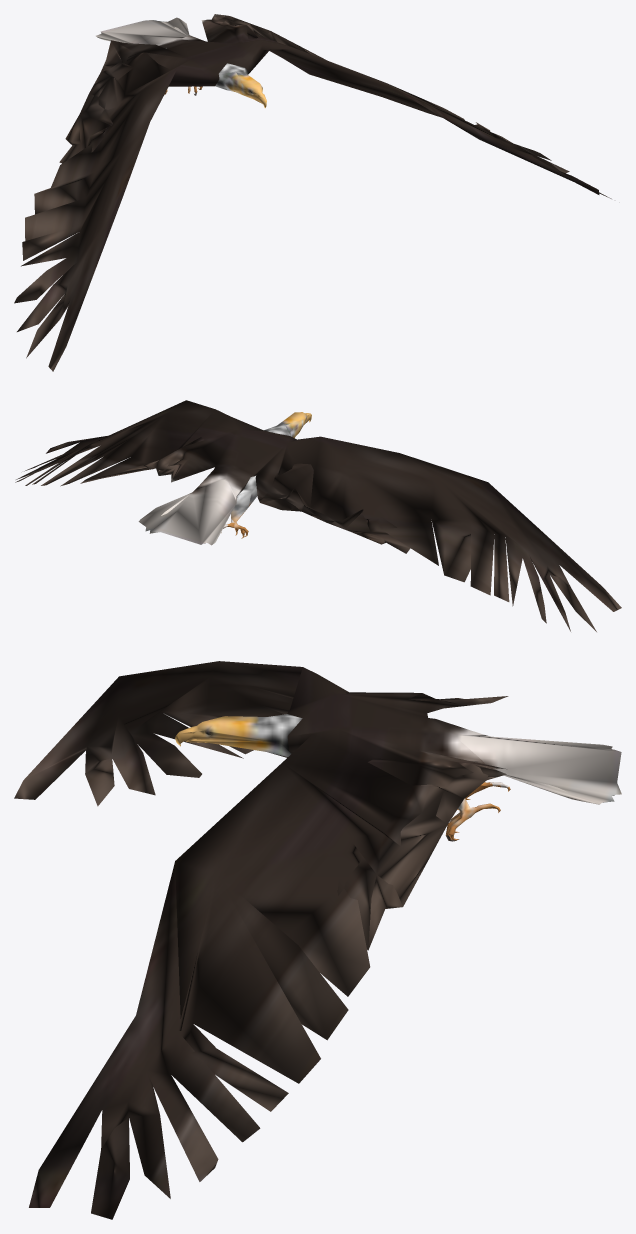
File: eager2.obj
3 renders of one model, top to bottom at view 1: azimuth 30°, elevation 25°; view 2: azimuth 150°, elevation 25°; view 3: azimuth 270°, elevation 25°, orthographic. The views are drawn at different scales.
Parts seen in each view (by area): view 1: donhua_01_laoyingdonhua_01_ying_eagle_2; view 2: donhua_01_laoyingdonhua_01_ying_eagle_2; view 3: donhua_01_laoyingdonhua_01_ying_eagle_2.
Boxes of the visible parts, left/top/right/bottom form: donhua_01_laoyingdonhua_01_ying_eagle_2: left=14, top=14, right=611, bottom=371; donhua_01_laoyingdonhua_01_ying_eagle_2: left=15, top=400, right=621, bottom=631; donhua_01_laoyingdonhua_01_ying_eagle_2: left=14, top=661, right=621, bottom=1219.
Size of the model in its own units: 38.65 by 12.37 by 21.93.
1 material, 1 textured.
